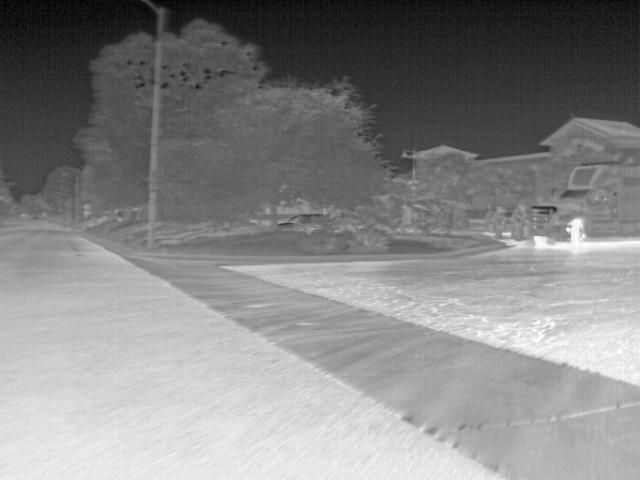car: (276, 214, 327, 233)
person: (510, 202, 530, 241), (397, 204, 418, 234), (491, 204, 507, 240)
